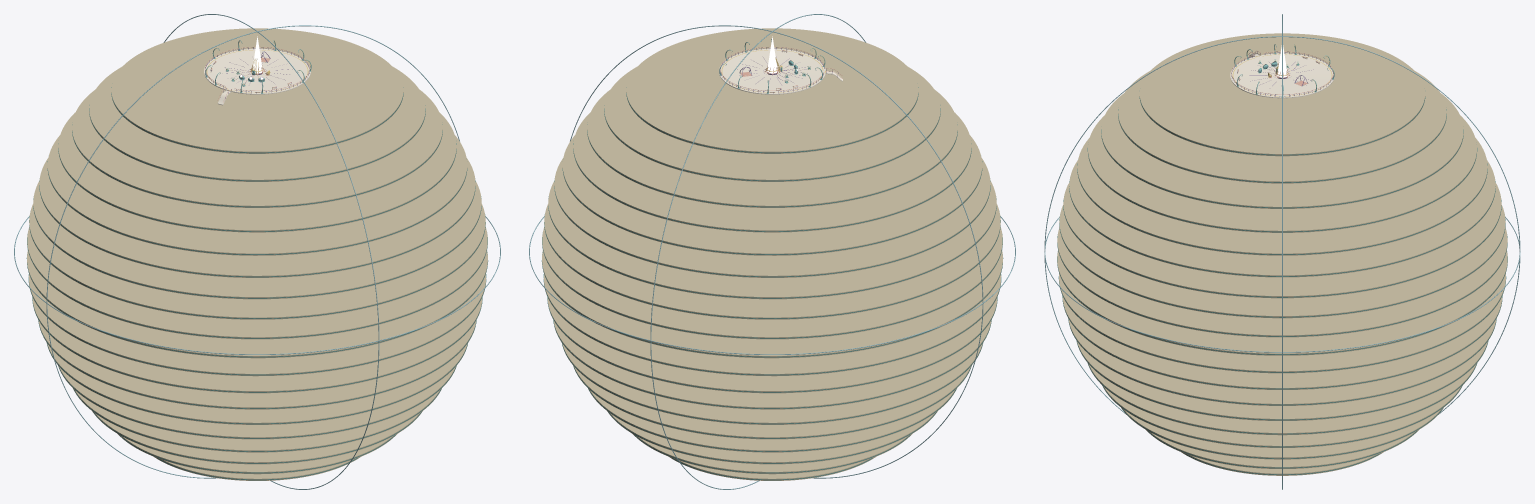
The model's file is ship_dimensions_dense_v2.glb.
3 renders of one model, left to right at view 1: azimuth 30°, elevation 25°; view 2: azimuth 150°, elevation 25°; view 3: azimuth 270°, elevation 25°, orthographic. The views are drawn at different scales.
Parts seen in each view (by area): view 1: Deck 01 top 73.5m, Deck 02 top 65m, Deck 03 top 56.5m, Deck 04 top 48m, Deck 05 top 39.5m, Deck 06 top 31m, Deck 07 top 22.5m, Deck 08 top 14m, Deck 09 top 5.5m, Deck 10 top -3m, Deck 11 top -11.5m, Deck 12 top -20m (+24 smaller); view 2: Deck 01 top 73.5m, Deck 02 top 65m, Deck 03 top 56.5m, Deck 04 top 48m, Deck 05 top 39.5m, Deck 06 top 31m, Deck 07 top 22.5m, Deck 08 top 14m, Deck 09 top 5.5m, Deck 10 top -3m, Deck 11 top -11.5m, Deck 12 top -20m (+24 smaller); view 3: Deck 01 top 73.5m, Deck 02 top 65m, Deck 03 top 56.5m, Deck 04 top 48m, Deck 05 top 39.5m, Deck 06 top 31m, Deck 07 top 22.5m, Deck 08 top 14m, Deck 09 top 5.5m, Deck 10 top -3m, Deck 11 top -11.5m, Deck 12 top -20m (+23 smaller).
Part boxes in pixels (<box>): Deck 01 top 73.5m: <box>111,28,403,153</box>; Deck 02 top 65m: <box>89,66,425,181</box>; Deck 03 top 56.5m: <box>72,89,442,207</box>; Deck 04 top 48m: <box>58,112,456,232</box>; Deck 05 top 39.5m: <box>47,135,467,255</box>; Deck 06 top 31m: <box>39,158,475,277</box>; Deck 07 top 22.5m: <box>33,181,481,299</box>; Deck 08 top 14m: <box>29,204,485,319</box>; Deck 09 top 5.5m: <box>27,227,487,339</box>; Deck 10 top -3m: <box>27,250,487,358</box>; Deck 11 top -11.5m: <box>28,274,486,376</box>; Deck 12 top -20m: <box>32,297,482,393</box>; Deck 01 top 73.5m: <box>626,28,918,153</box>; Deck 02 top 65m: <box>604,66,940,181</box>; Deck 03 top 56.5m: <box>587,89,957,207</box>; Deck 04 top 48m: <box>573,112,971,232</box>; Deck 05 top 39.5m: <box>562,135,982,255</box>; Deck 06 top 31m: <box>554,158,990,277</box>; Deck 07 top 22.5m: <box>548,181,996,299</box>; Deck 08 top 14m: <box>544,204,1000,319</box>; Deck 09 top 5.5m: <box>542,227,1002,339</box>; Deck 10 top -3m: <box>542,250,1002,358</box>; Deck 11 top -11.5m: <box>543,274,1001,376</box>; Deck 12 top -20m: <box>547,297,997,393</box>; Deck 01 top 73.5m: <box>1139,33,1425,156</box>; Deck 02 top 65m: <box>1118,71,1446,183</box>; Deck 03 top 56.5m: <box>1101,93,1463,208</box>; Deck 04 top 48m: <box>1088,115,1476,232</box>; Deck 05 top 39.5m: <box>1077,138,1487,255</box>; Deck 06 top 31m: <box>1069,160,1495,277</box>; Deck 07 top 22.5m: <box>1063,183,1501,298</box>; Deck 08 top 14m: <box>1059,205,1505,318</box>; Deck 09 top 5.5m: <box>1057,227,1507,337</box>; Deck 10 top -3m: <box>1057,250,1507,355</box>; Deck 11 top -11.5m: <box>1059,273,1505,373</box>; Deck 12 top -20m: <box>1062,296,1502,389</box>.
Size of the model in its own units: 200 by 200 by 200.
